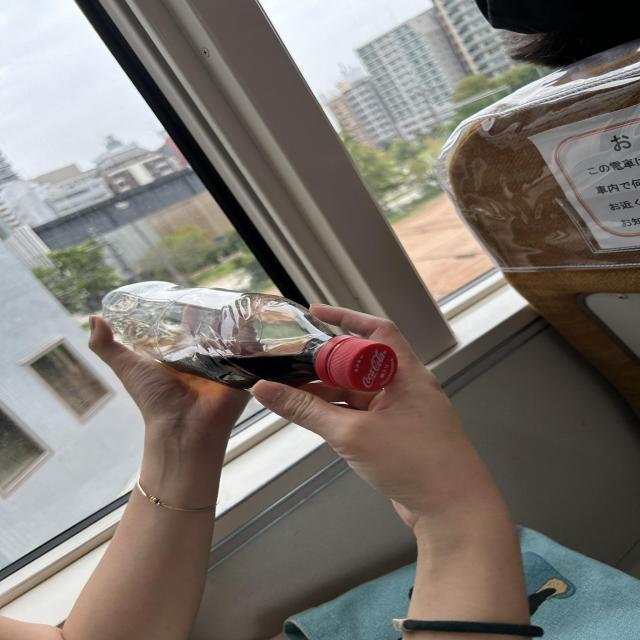low: (102, 281, 398, 392)
